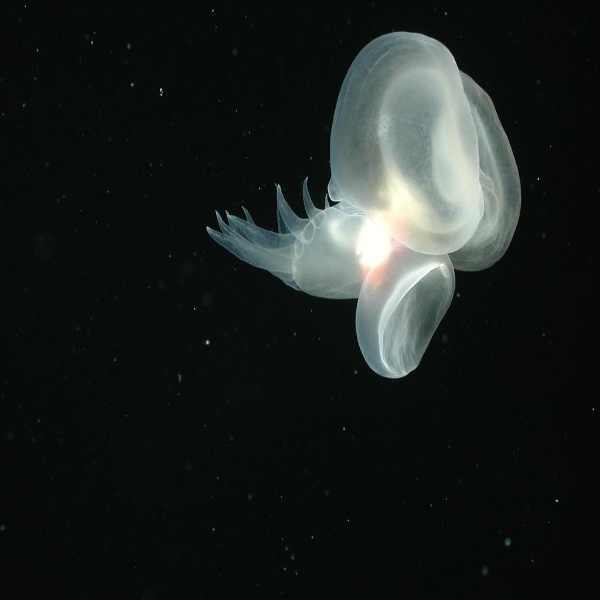Jellyfish: (292, 33, 520, 363)
